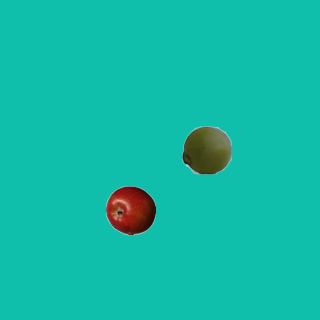Apple Braeburn: (105, 185, 155, 235)
Grape White 4: (181, 124, 231, 174)
